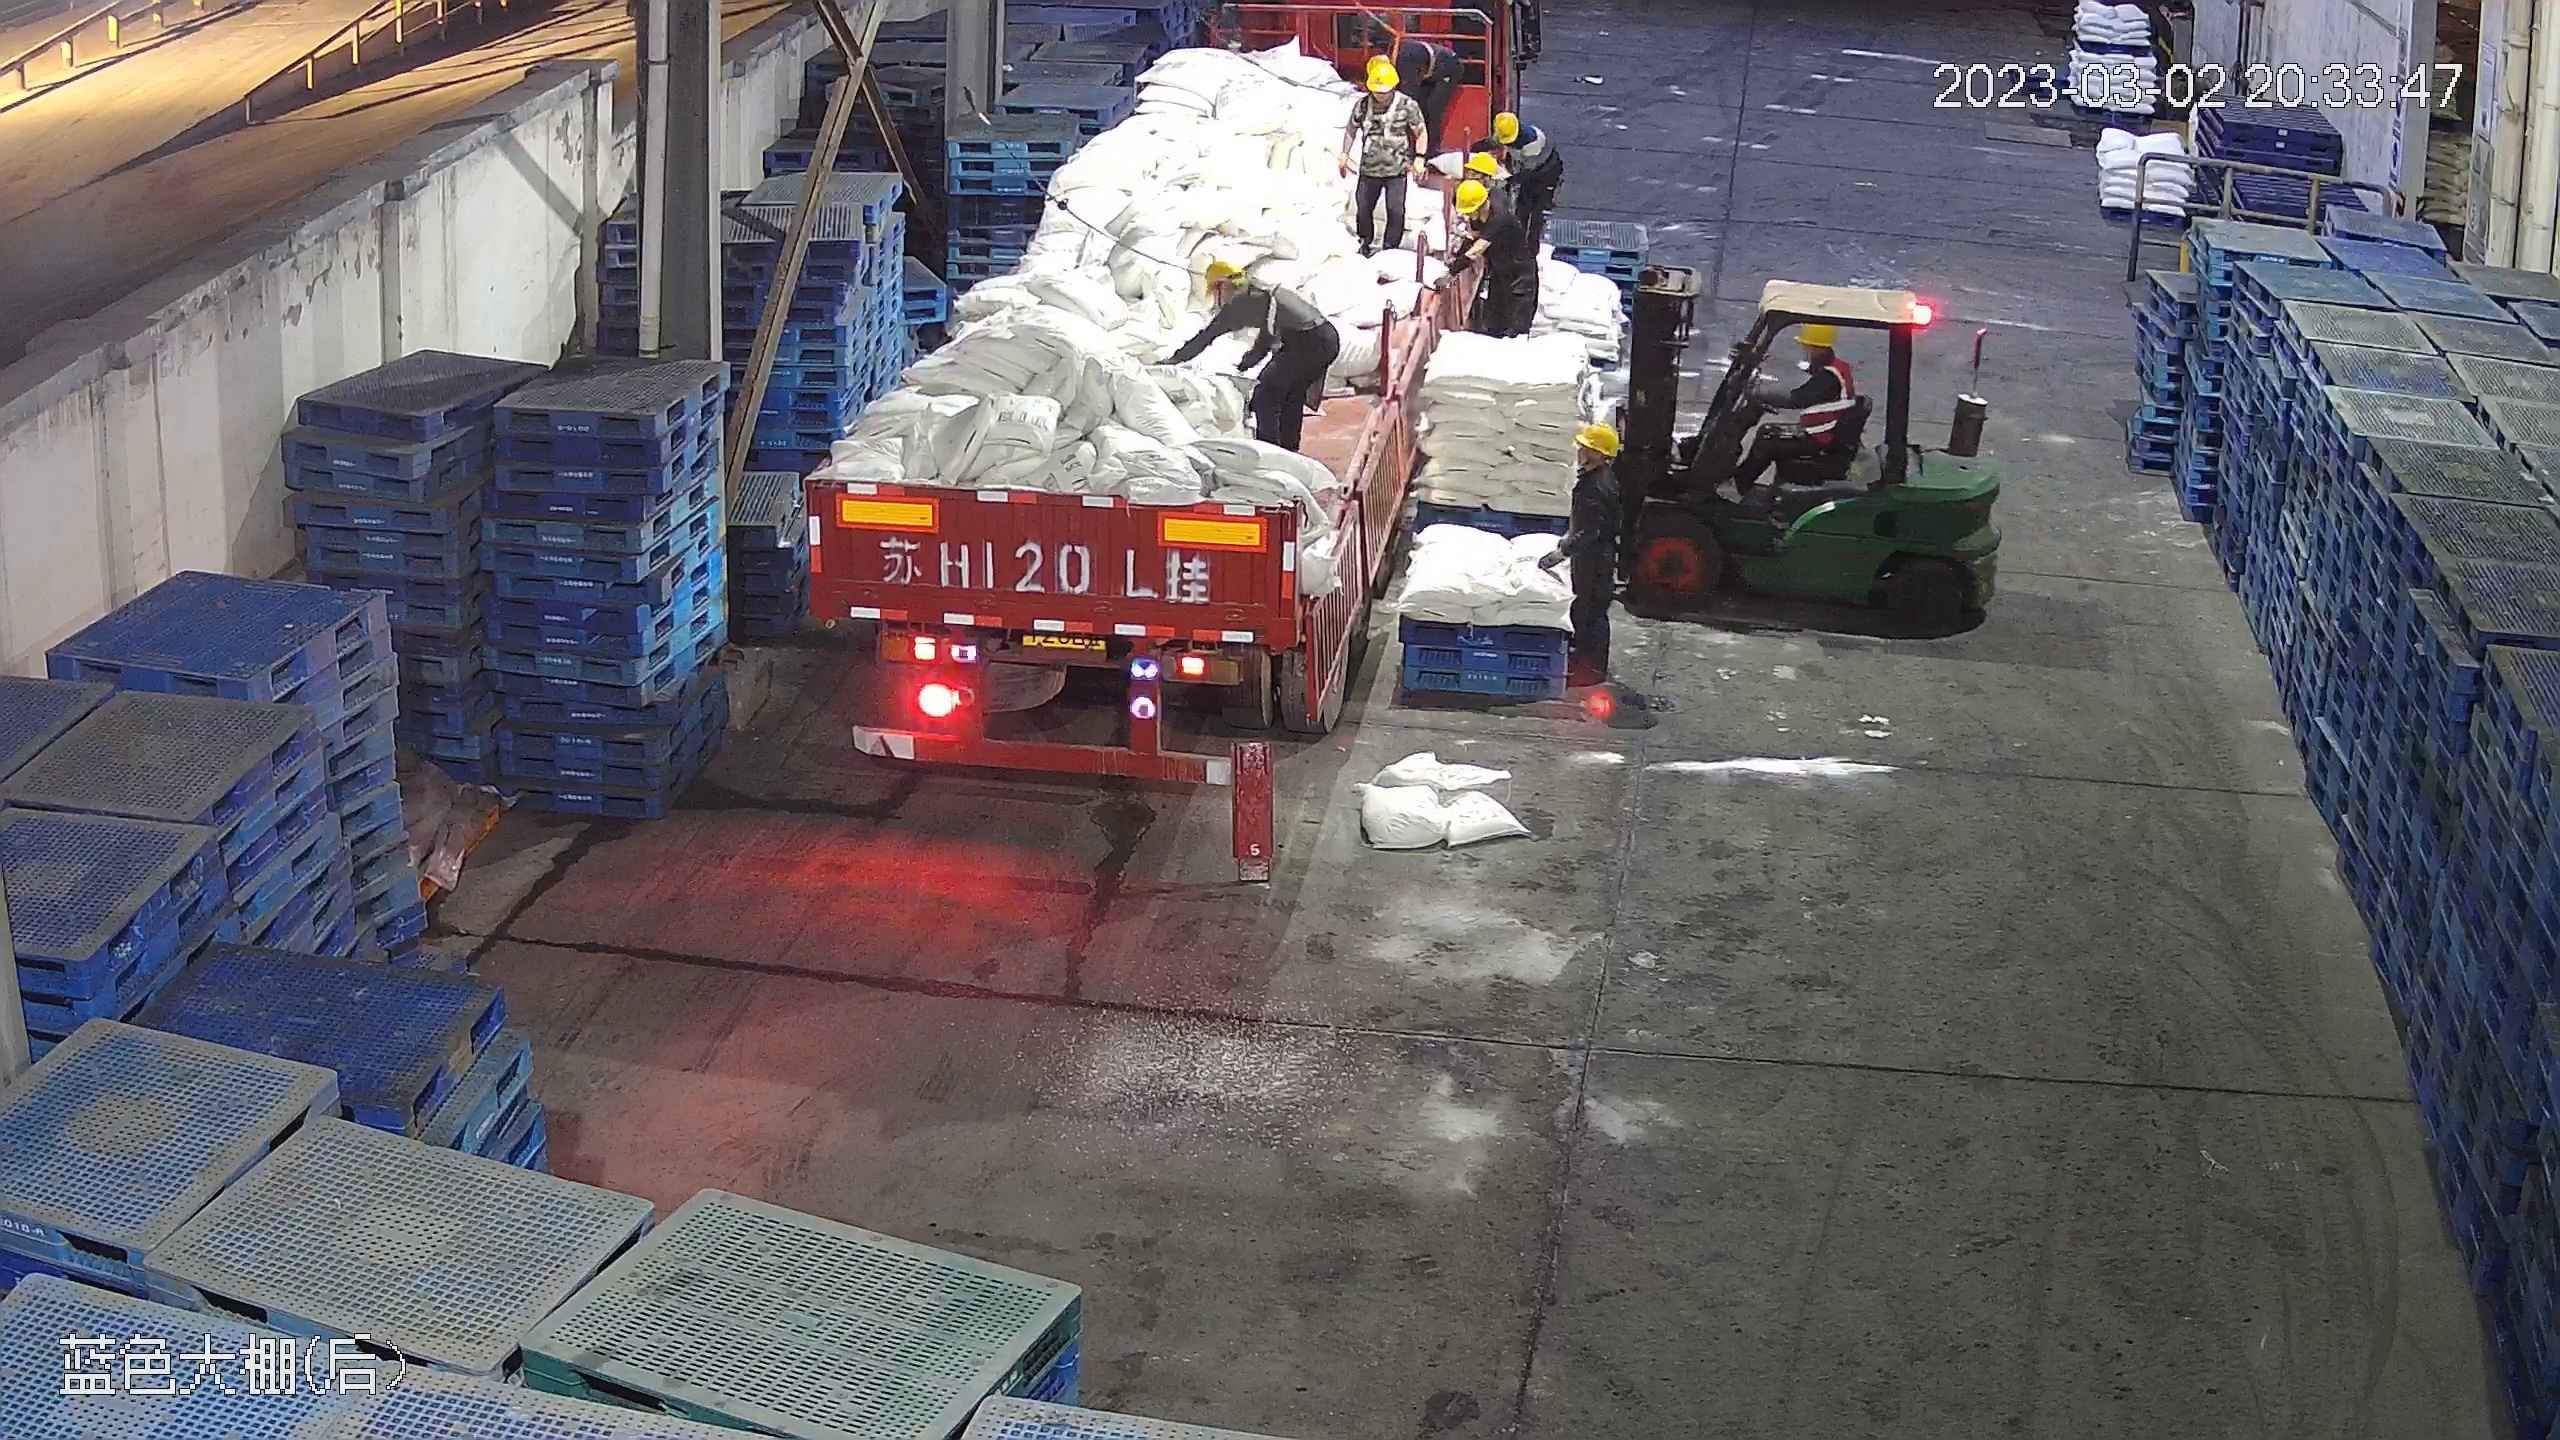belt: (1249, 274, 1313, 331), (1358, 97, 1412, 158), (1390, 25, 1447, 78), (1387, 22, 1423, 66)
head: (1197, 258, 1280, 336), (1564, 419, 1631, 514), (1450, 176, 1527, 257), (1786, 320, 1854, 405), (1479, 109, 1560, 174), (1351, 55, 1419, 124)
helmet: (1573, 420, 1622, 456), (1201, 257, 1246, 293), (1456, 171, 1492, 213), (1488, 109, 1521, 146), (1796, 322, 1836, 349), (1360, 55, 1394, 87), (1464, 150, 1500, 179)
people: (1166, 260, 1340, 451), (1721, 321, 1859, 504), (1550, 417, 1629, 695), (1340, 56, 1427, 257), (1434, 167, 1527, 333), (1480, 109, 1564, 279)
truck: (795, 16, 1506, 781)
